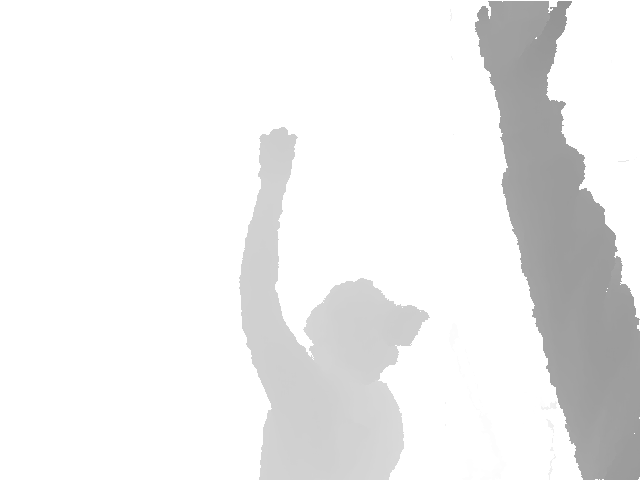hand: (473, 1, 572, 86), (259, 127, 296, 186)
head: (303, 276, 414, 381)
person: (473, 1, 640, 480), (238, 126, 431, 479)
